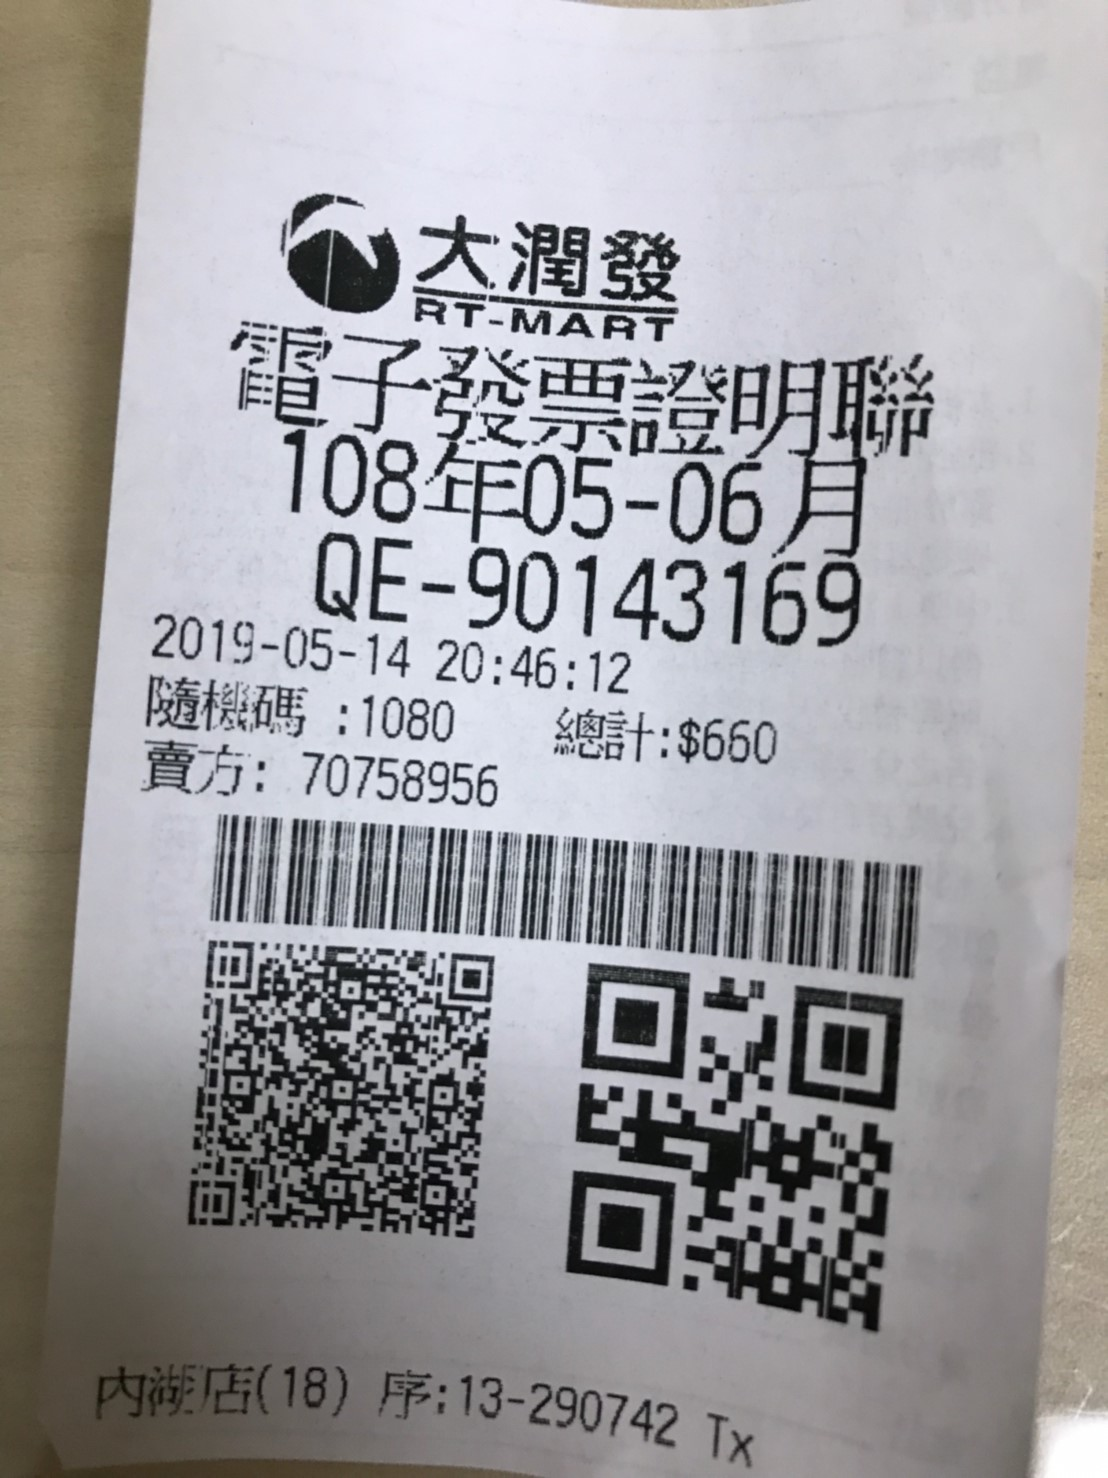Date_New: (277, 422, 871, 556)
Number_New: (463, 539, 864, 655)
